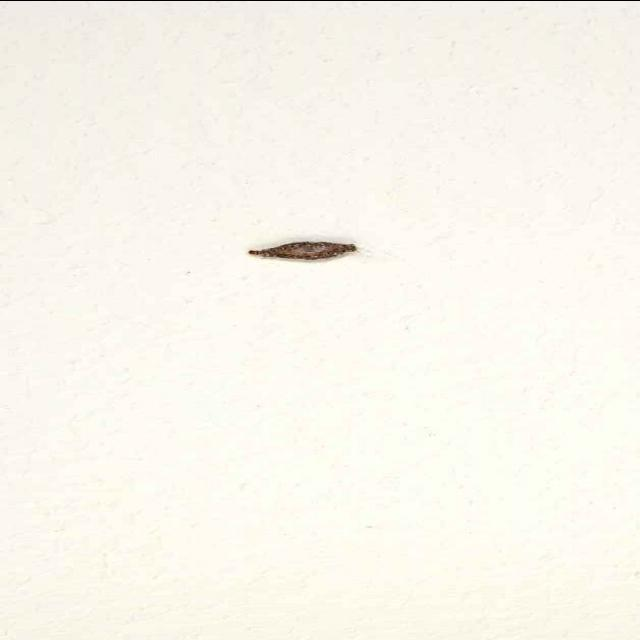leak: (240, 232, 378, 292)
